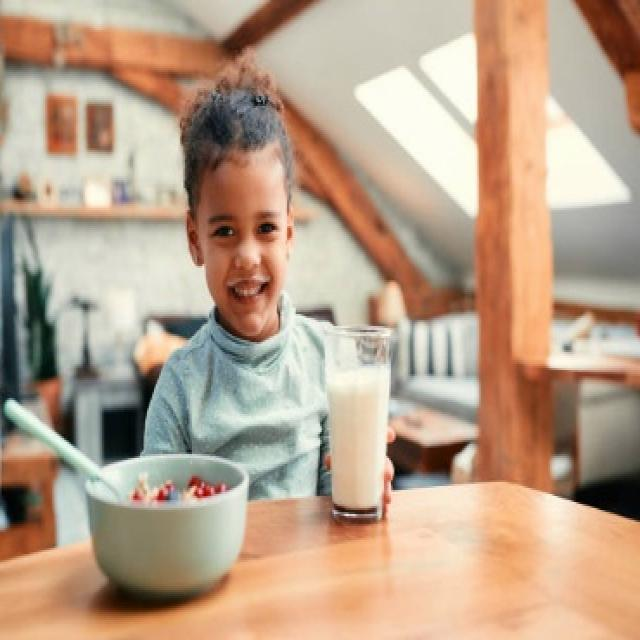child: (140, 76, 405, 516)
